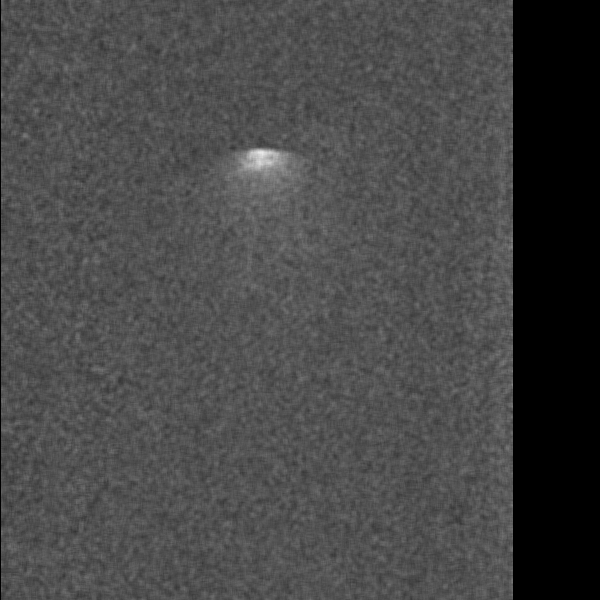spark: (233, 143, 290, 237)
